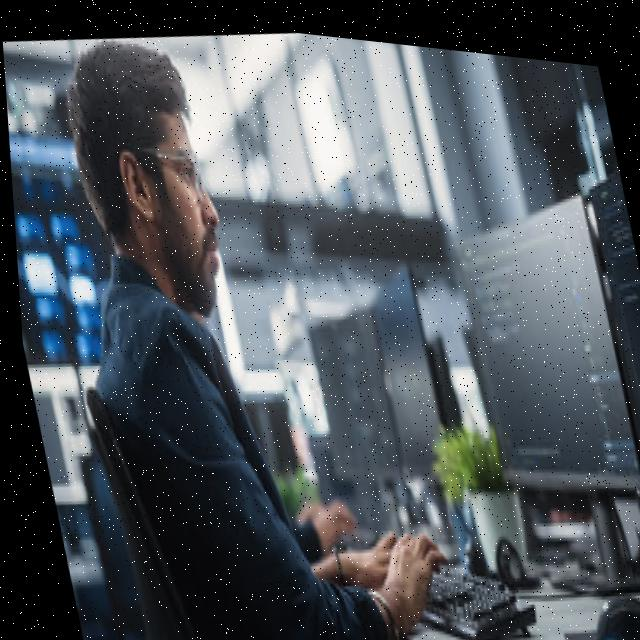desktop-person: (17, 1, 640, 640)
